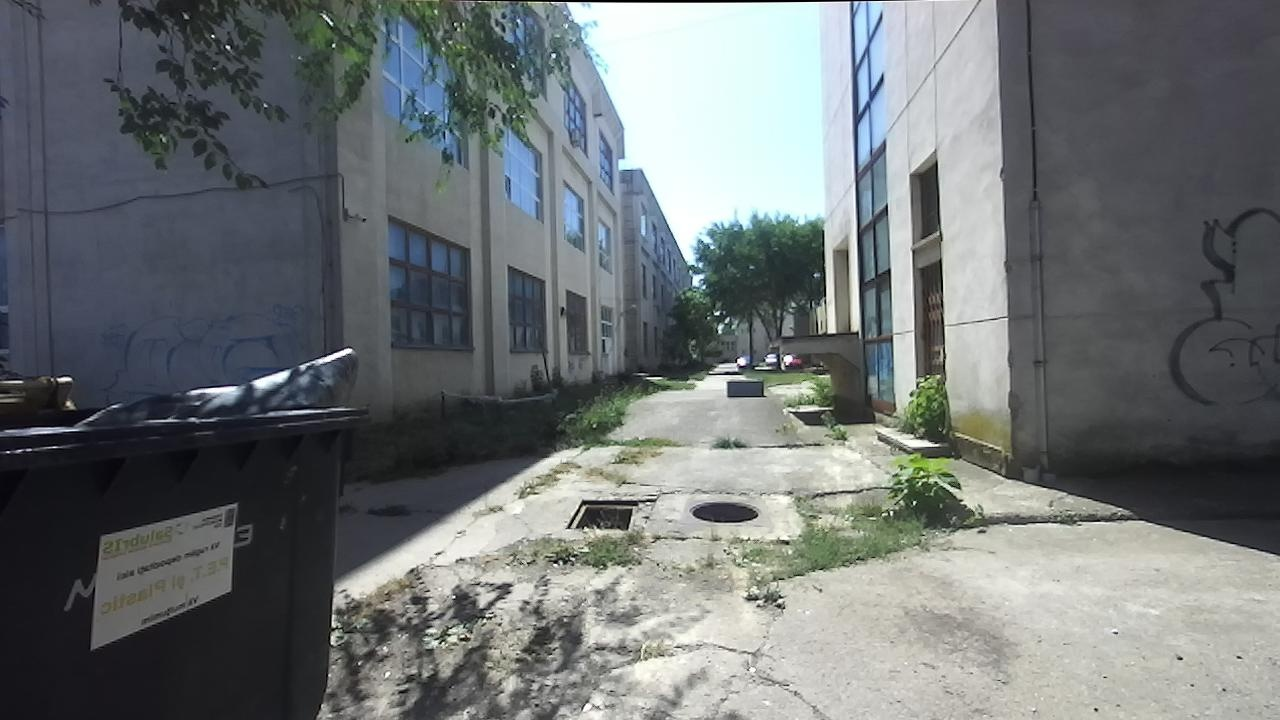drain: (560, 495, 644, 536), (685, 494, 765, 523)
